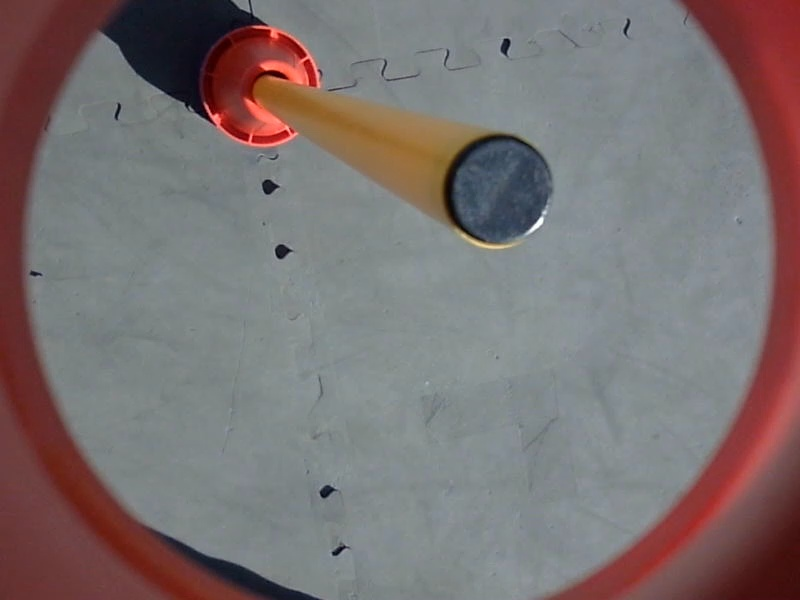tip: (437, 122, 564, 250)
